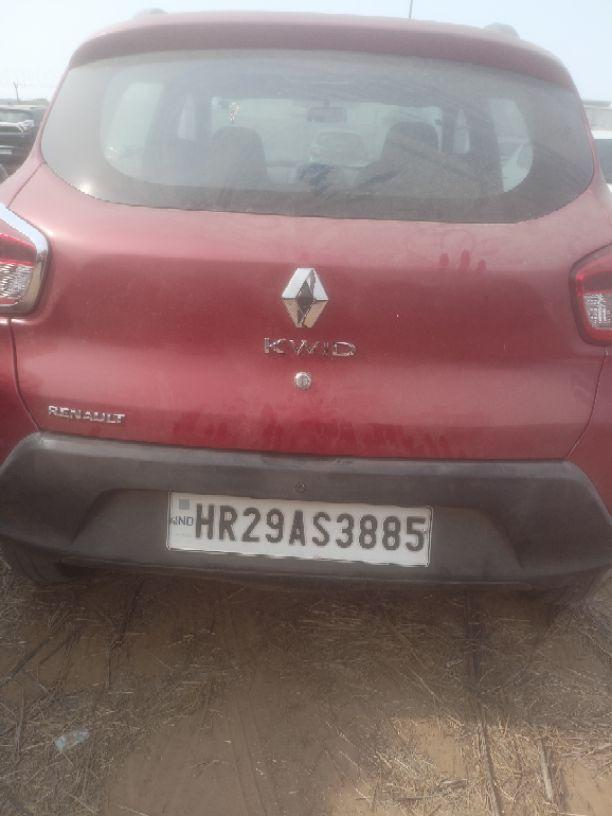license_plate: (164, 490, 434, 567)
